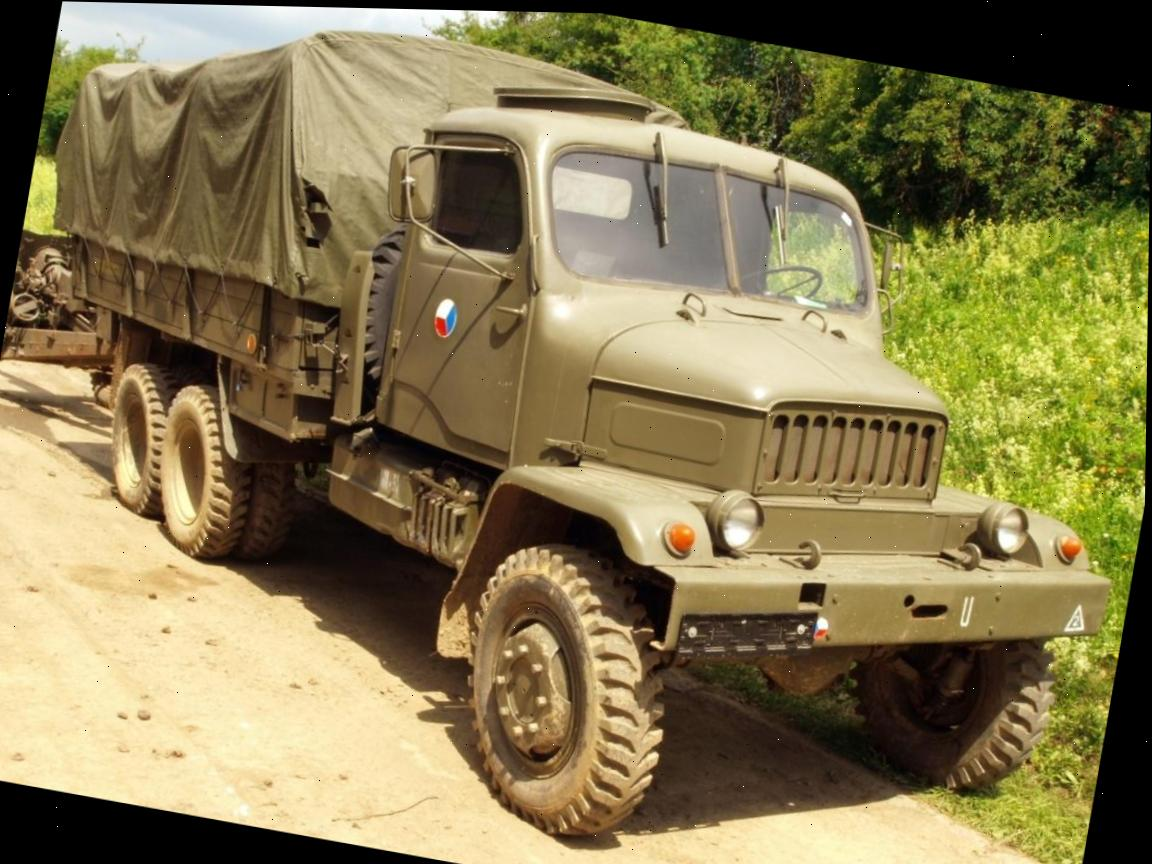sau: (0, 187, 125, 447)
truck: (0, 0, 1152, 864)
